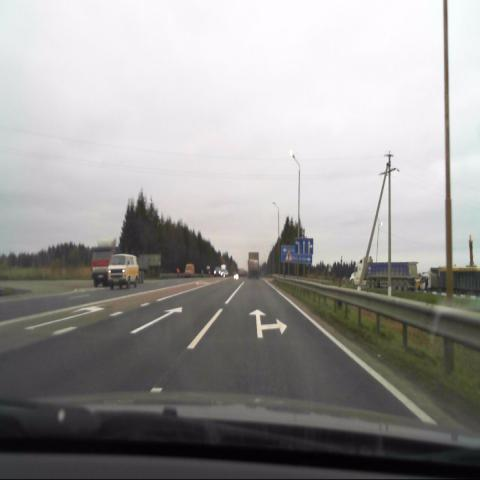5_15_1: (295, 237, 313, 257)
